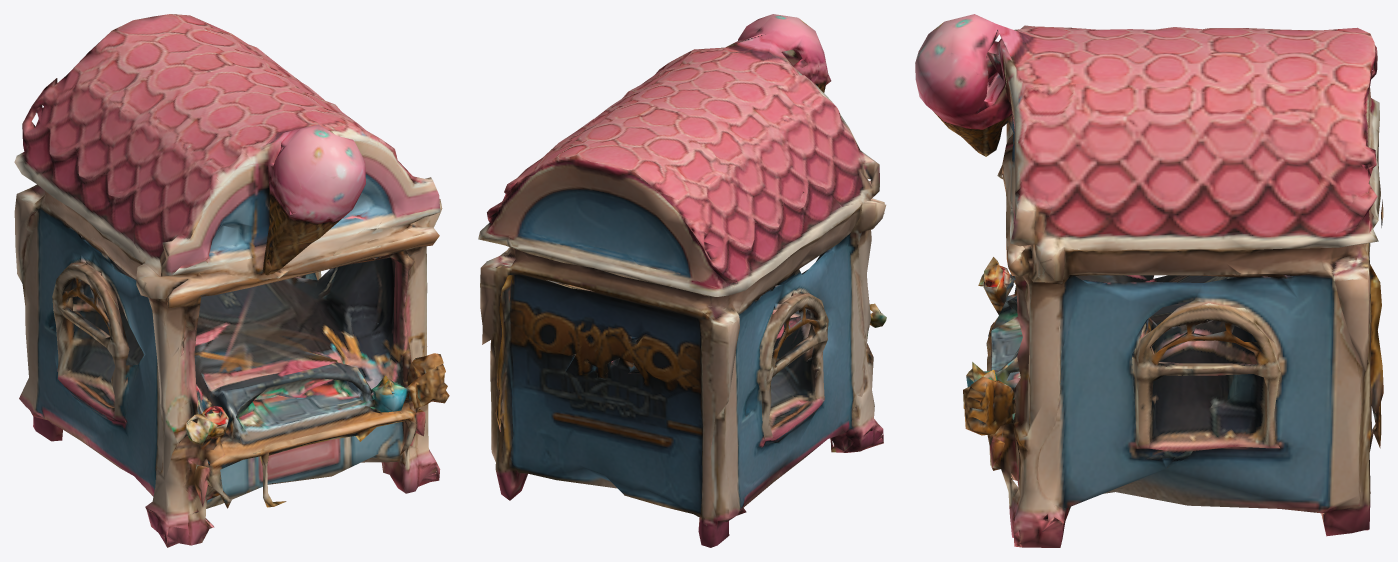
The model's file is 롯데_스낵바.glb.
The picture shows the model from 3 angles, left to right: view 1: azimuth 30°, elevation 25°; view 2: azimuth 150°, elevation 25°; view 3: azimuth 270°, elevation 25°; orthographic projection. The views are drawn at different scales.
Parts seen in each view (by area): view 1: texture_mapping; view 2: texture_mapping; view 3: texture_mapping.
Part boxes in pixels (x1,y1,x2,y2): texture_mapping: (14, 14, 449, 547); texture_mapping: (478, 14, 886, 547); texture_mapping: (915, 14, 1383, 547).
Bounding box in the file's own units: 0.773 × 0.9792 × 0.9123.
1 material, 1 textured.
